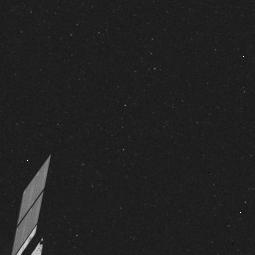soho: (0, 149, 71, 255)
